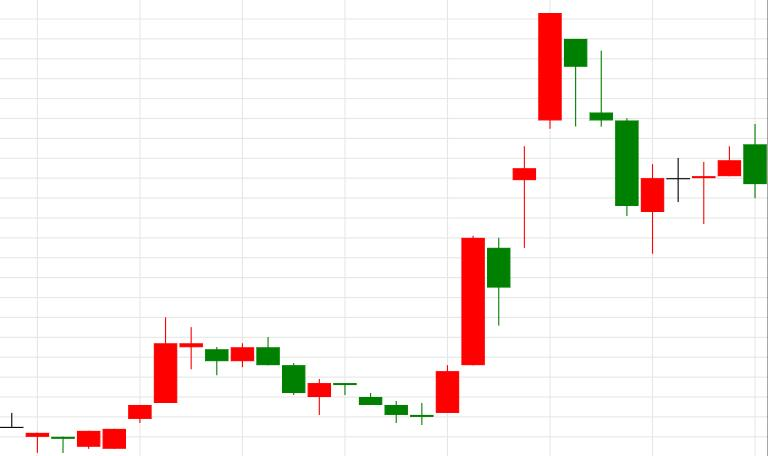hanging_man_fall: (436, 13, 588, 412)
